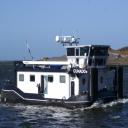tugboat: (3, 35, 125, 113)
